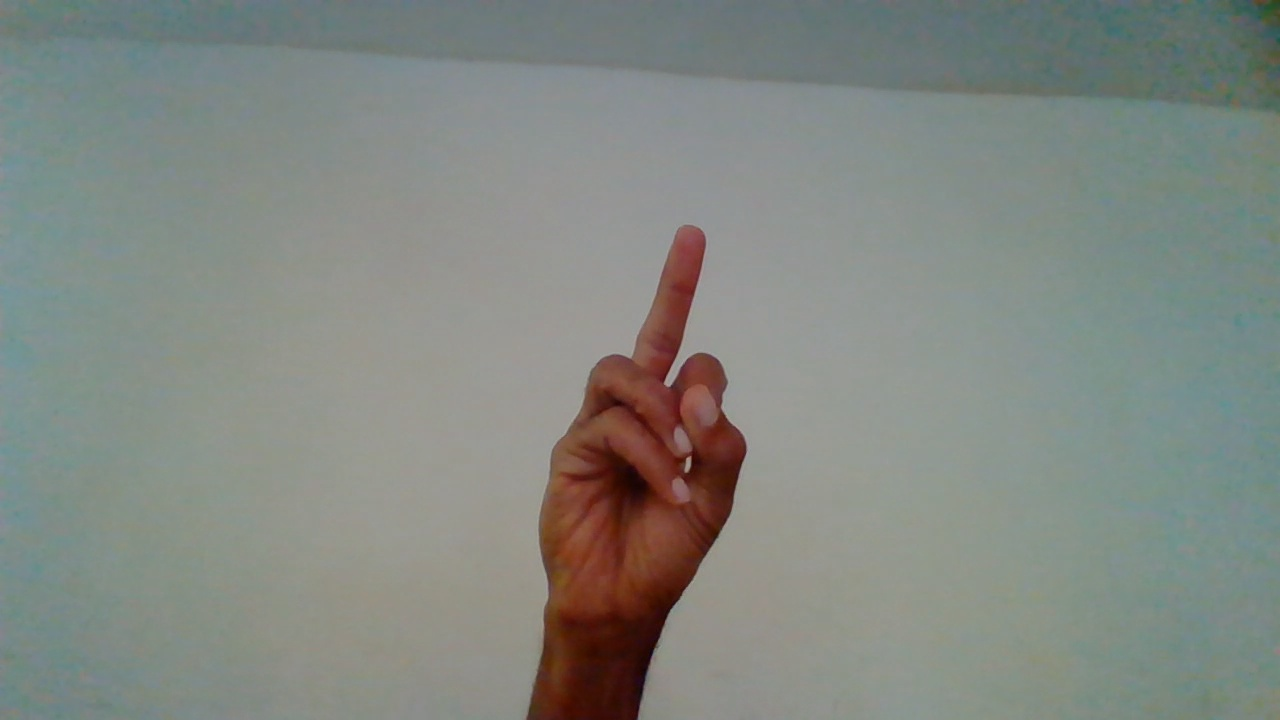he: (535, 221, 734, 705)
